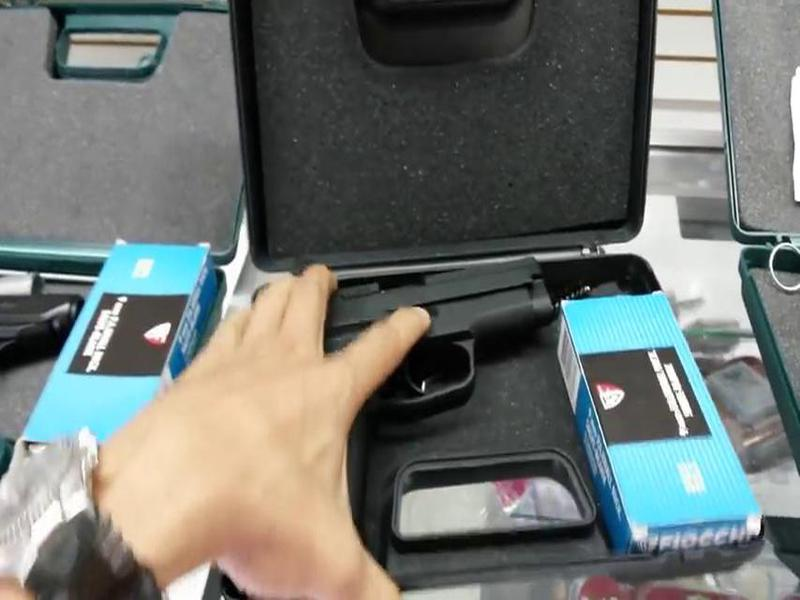Pistola: (242, 245, 589, 473)
